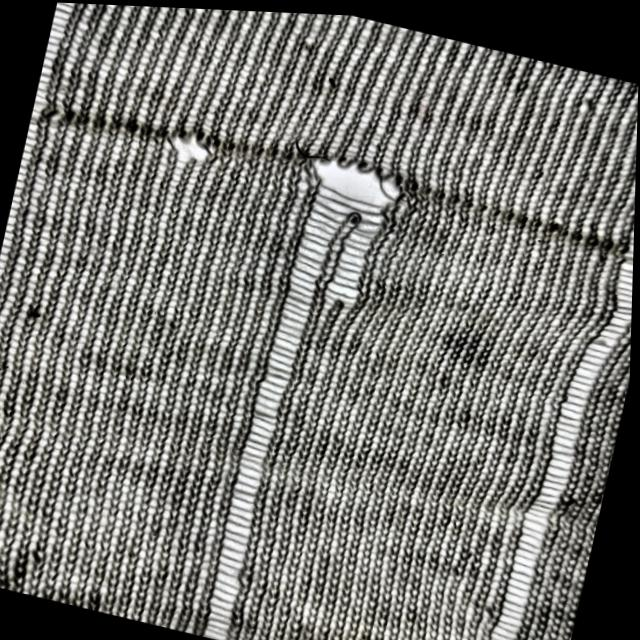Hole: (167, 122, 219, 175)
Stitch: (182, 131, 418, 640), (476, 68, 639, 640), (0, 0, 106, 480)
